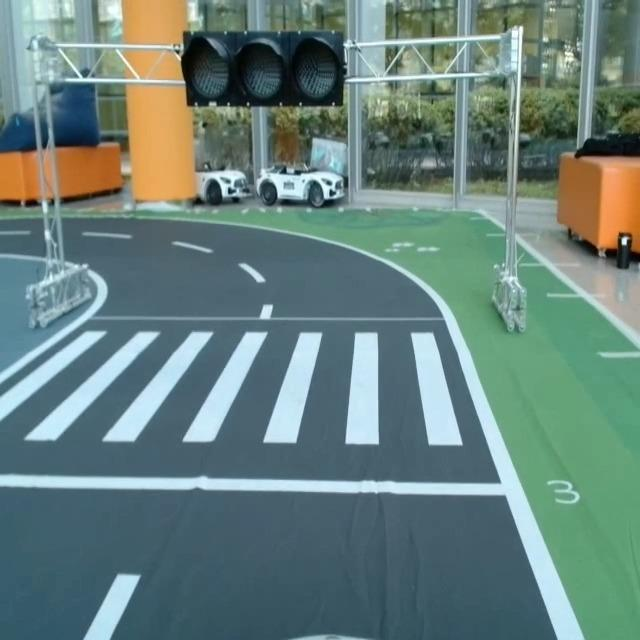traffic-light: (180, 25, 355, 112)
